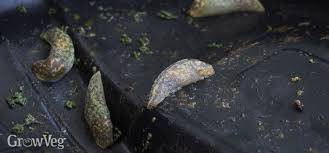slug: (145, 60, 214, 107), (33, 28, 75, 79), (86, 74, 114, 145), (183, 1, 262, 17)
